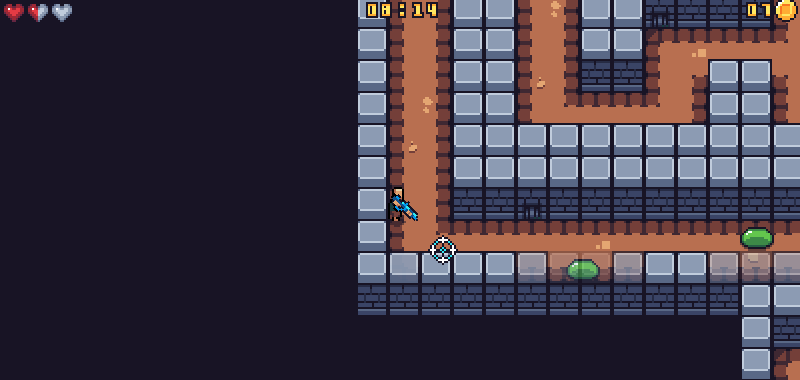enemy_slug: (563, 253, 603, 283), (738, 223, 777, 248)
